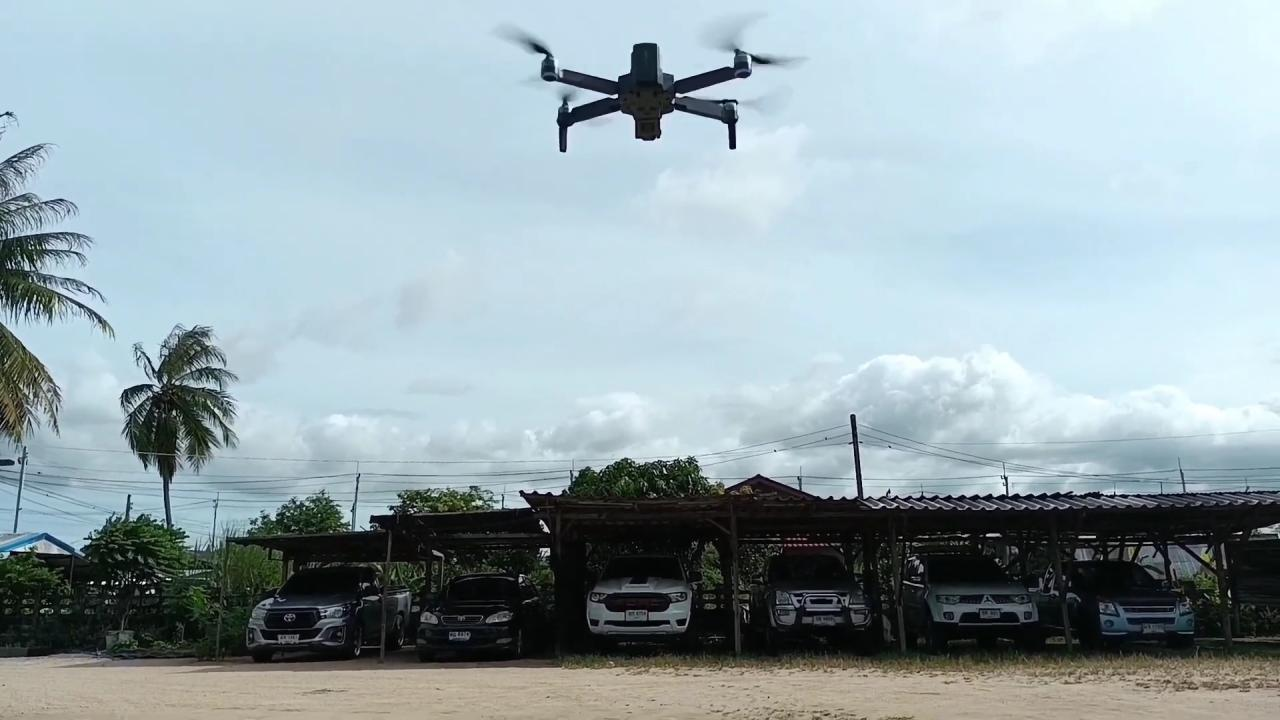Drone: (472, 5, 811, 171)
